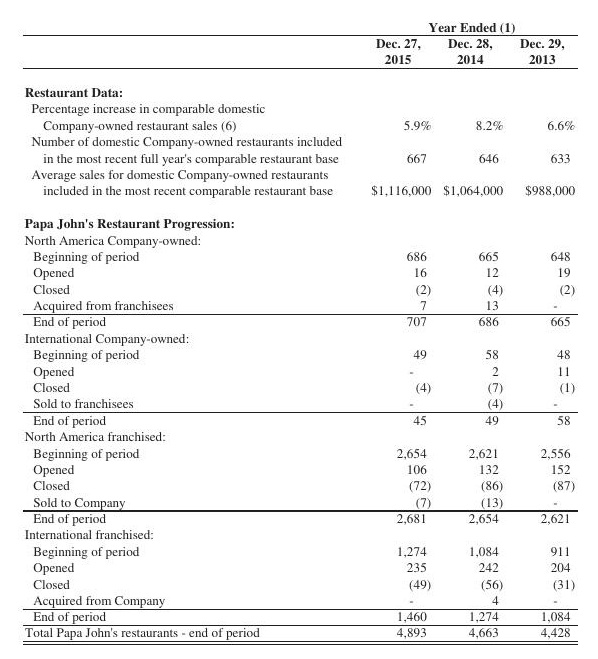table: (0, 0, 598, 659)
